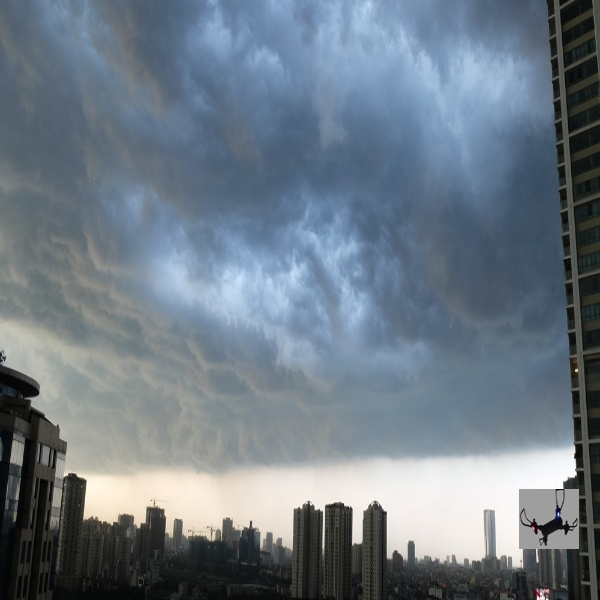drone: (521, 489, 579, 549)
